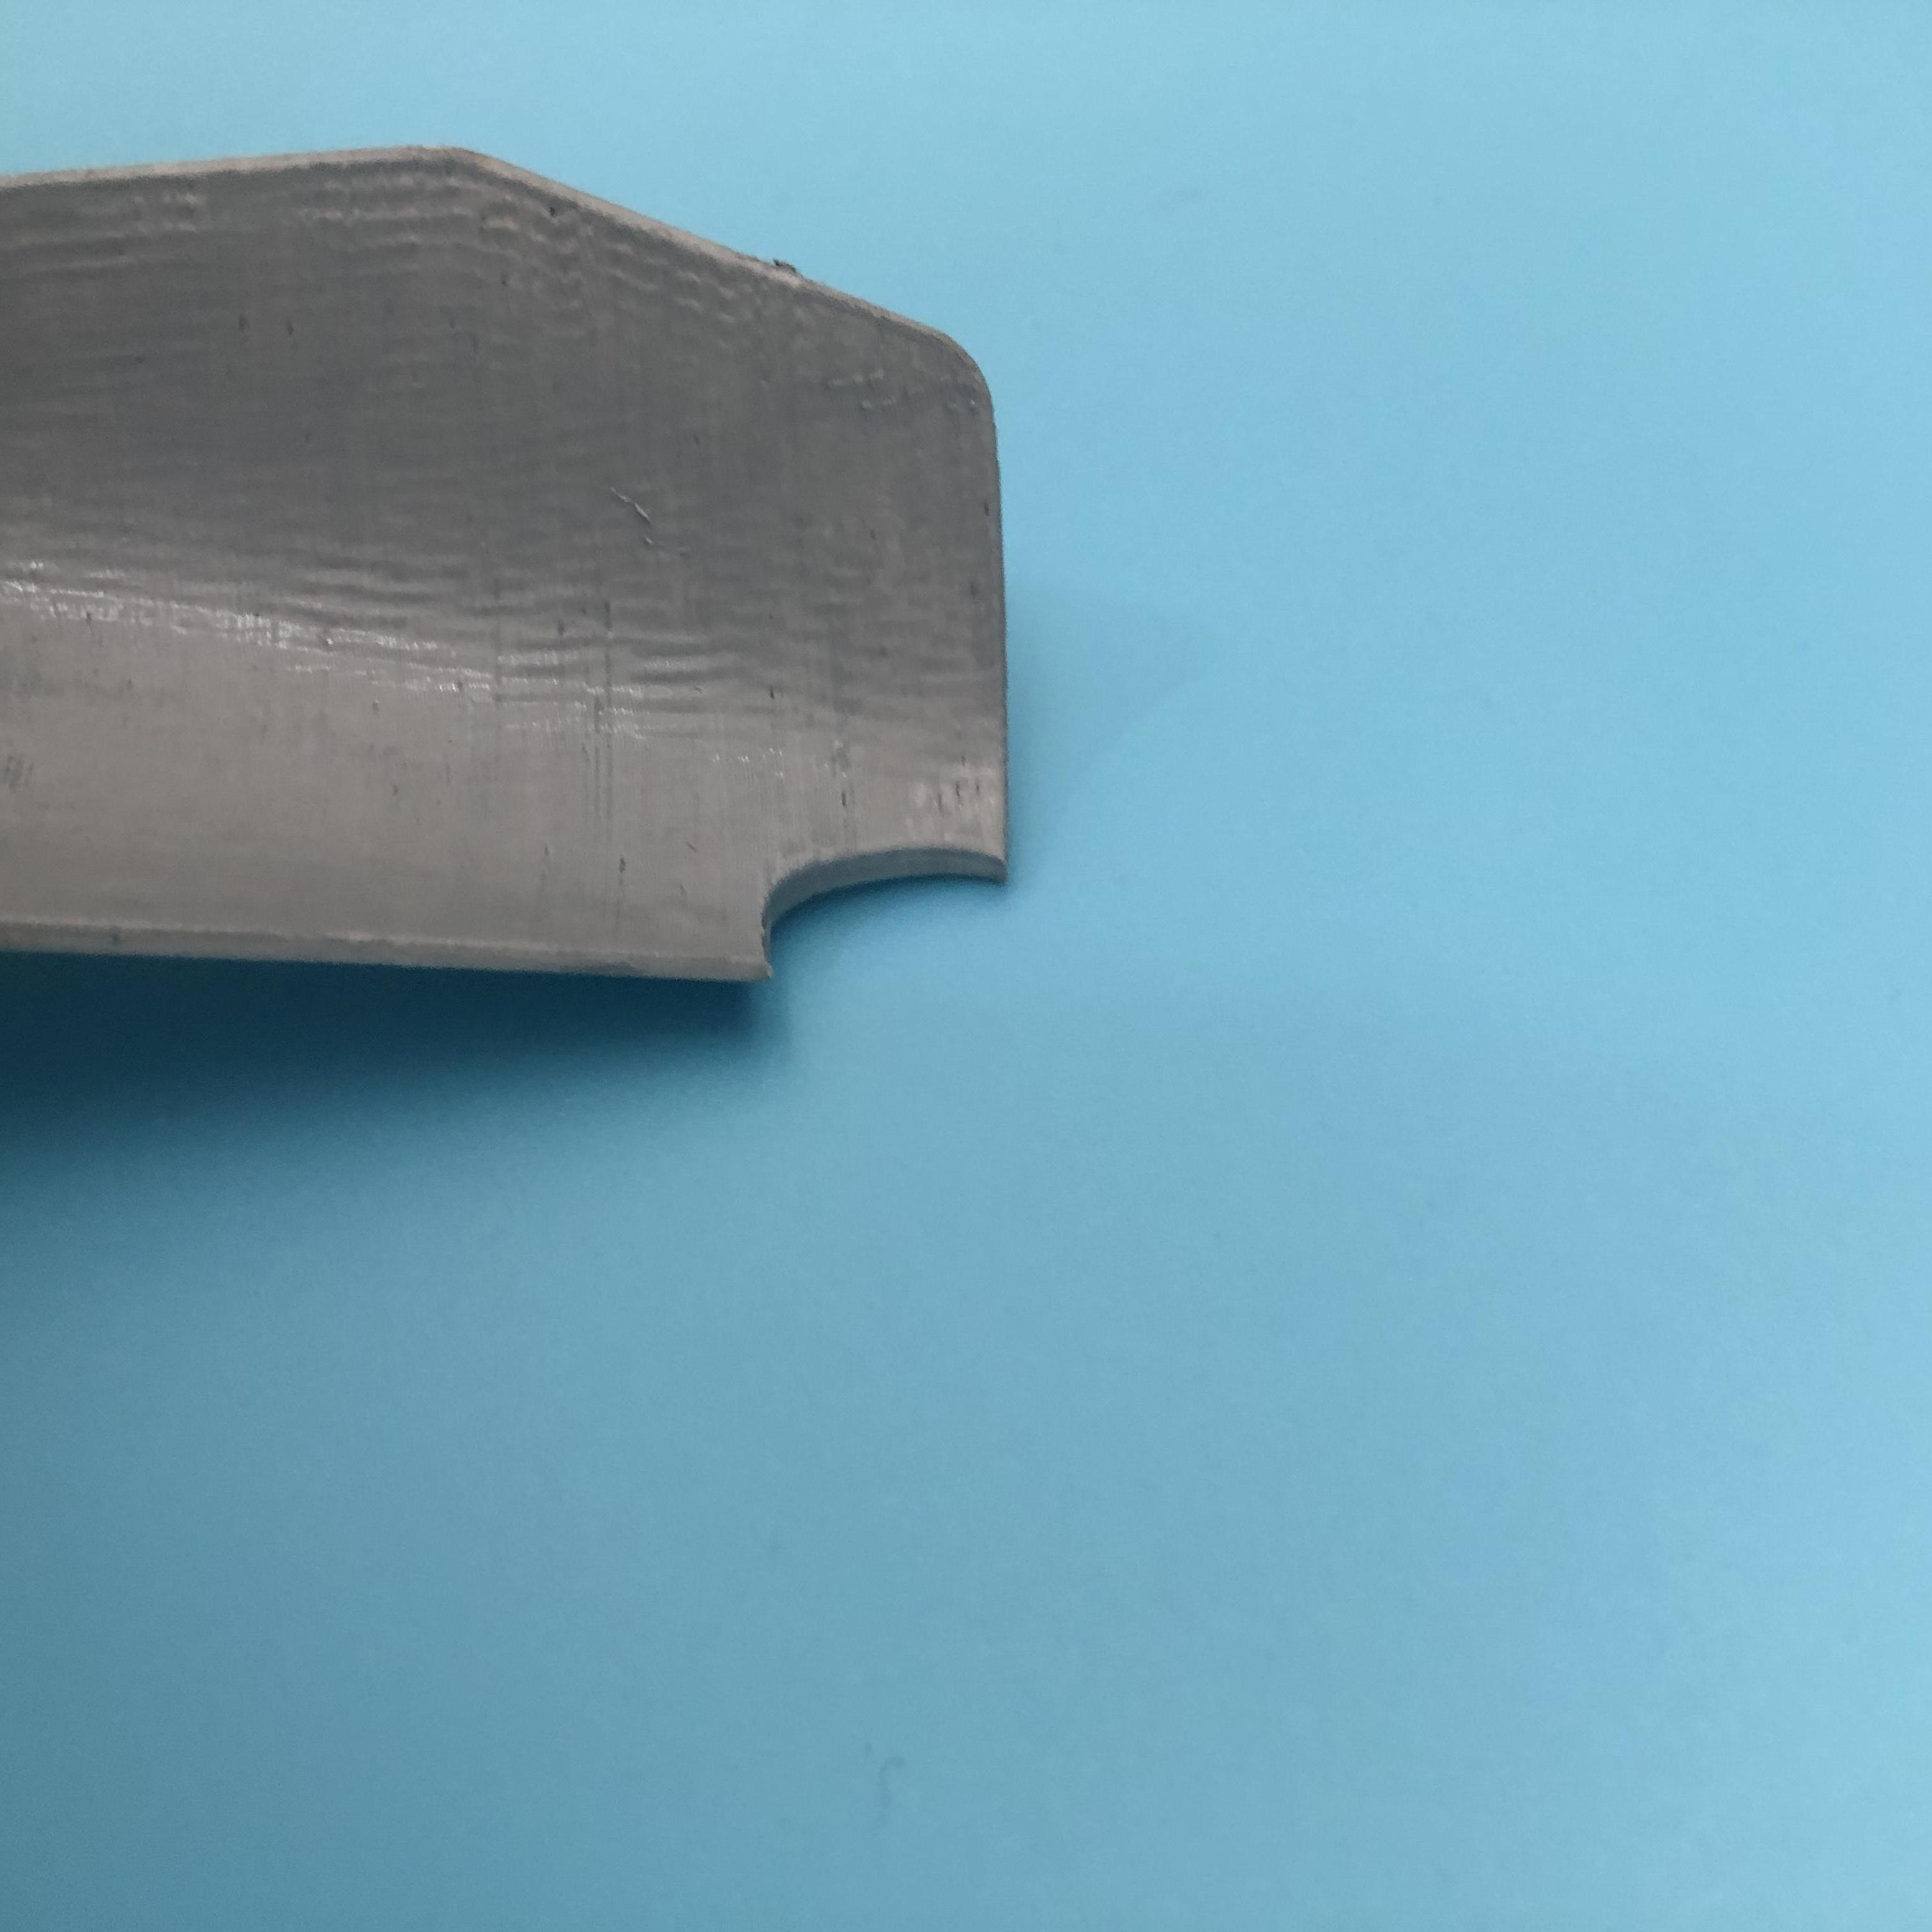fracture: (766, 826, 978, 982)
